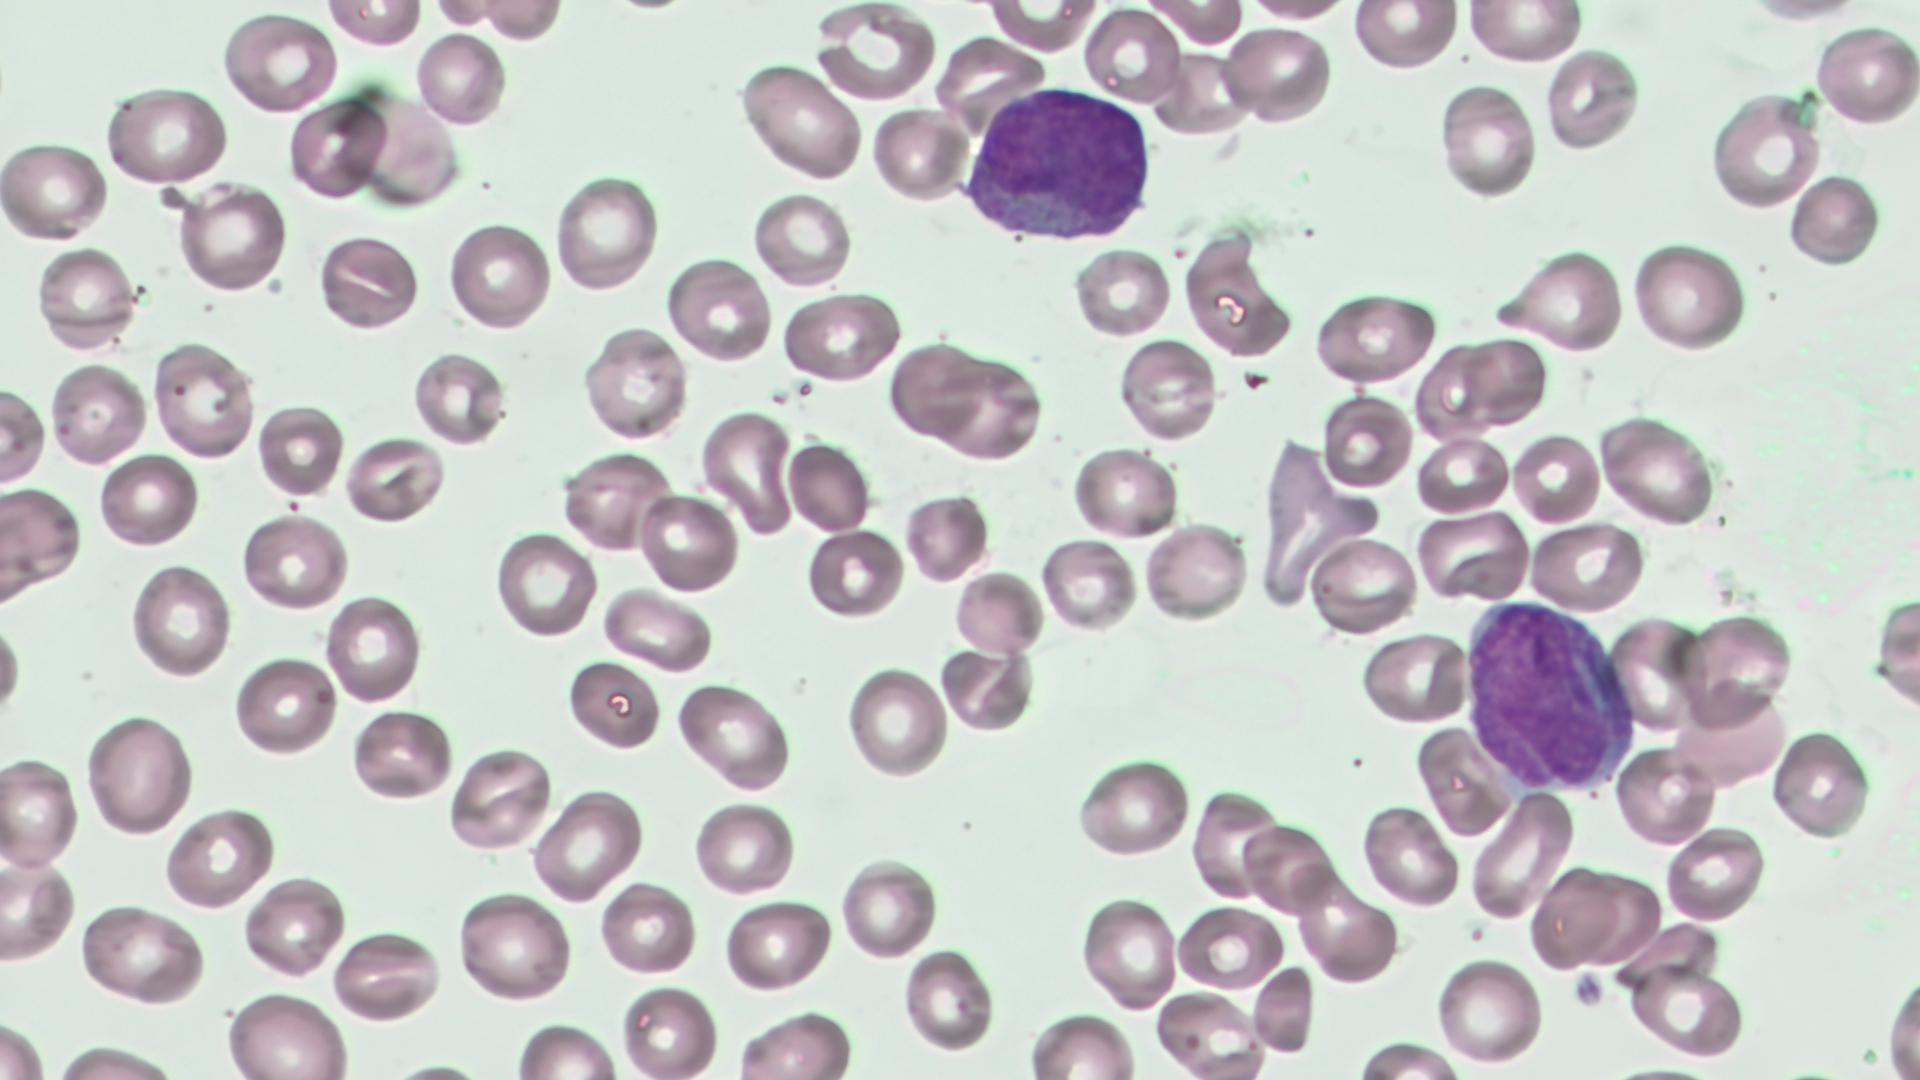Platelets: (1570, 969, 1606, 1008)
RBC: (736, 57, 865, 186), (1179, 226, 1294, 361), (1466, 785, 1576, 923), (76, 900, 209, 1010), (83, 710, 195, 840), (1629, 237, 1749, 357), (918, 349, 1044, 462), (455, 887, 574, 1006), (552, 167, 661, 296), (1596, 412, 1716, 528), (1682, 610, 1796, 730), (1707, 90, 1818, 213), (672, 679, 793, 791), (101, 81, 228, 187), (218, 7, 339, 118), (531, 789, 645, 902), (1434, 952, 1545, 1067), (1510, 246, 1624, 357), (580, 326, 687, 444), (1671, 683, 1791, 788), (151, 340, 256, 460), (699, 407, 795, 538), (163, 803, 277, 913), (1076, 752, 1191, 861), (127, 561, 232, 680), (814, 1, 934, 105), (1079, 891, 1180, 1014), (446, 217, 553, 333), (1437, 79, 1538, 201), (220, 986, 353, 1078), (493, 526, 599, 641), (558, 448, 674, 553), (1770, 724, 1872, 843), (176, 185, 286, 295), (664, 254, 773, 364), (843, 665, 946, 780), (0, 136, 109, 244), (286, 92, 391, 204), (1313, 290, 1435, 386), (239, 873, 348, 980), (240, 508, 350, 614), (1812, 20, 1917, 131), (447, 742, 552, 853), (1527, 518, 1647, 614), (1612, 741, 1718, 849), (324, 591, 423, 706), (1629, 961, 1746, 1058), (1417, 724, 1514, 840), (33, 244, 135, 354), (1360, 800, 1462, 910), (779, 290, 899, 383), (1662, 820, 1767, 926), (1220, 22, 1330, 123), (1306, 535, 1419, 633), (721, 896, 835, 993), (1298, 877, 1400, 985), (838, 854, 940, 962), (1142, 521, 1250, 623), (329, 928, 444, 1023), (48, 356, 148, 465), (638, 490, 741, 595), (235, 651, 336, 758), (1610, 615, 1700, 734), (1078, 4, 1184, 105), (1413, 507, 1528, 600), (1544, 46, 1642, 155), (1189, 786, 1282, 900), (96, 450, 202, 550), (315, 232, 421, 332), (1070, 442, 1178, 540), (1174, 900, 1287, 992), (1528, 864, 1622, 974), (747, 189, 851, 288), (348, 706, 453, 804), (1360, 632, 1469, 726), (692, 798, 796, 896), (899, 946, 994, 1053), (1785, 168, 1887, 267), (1070, 244, 1174, 341), (1120, 337, 1216, 442), (601, 585, 714, 674), (597, 878, 698, 977), (1038, 537, 1137, 637), (888, 340, 986, 441), (411, 26, 506, 130), (618, 980, 720, 1076), (868, 106, 970, 202), (0, 752, 81, 869), (343, 434, 448, 524), (412, 349, 508, 447), (1508, 429, 1602, 528), (562, 659, 662, 752), (802, 527, 904, 618), (938, 642, 1037, 734), (1322, 393, 1412, 492), (1, 483, 81, 594), (253, 403, 346, 497), (731, 1007, 854, 1078), (785, 439, 874, 536), (0, 854, 77, 964), (1461, 1, 1587, 68), (1348, 0, 1462, 73), (953, 566, 1042, 659), (1413, 434, 1512, 516), (902, 490, 988, 584), (1461, 335, 1548, 426), (1024, 1010, 1140, 1078), (510, 1017, 622, 1078), (1251, 962, 1322, 1054), (980, 0, 1100, 54), (1875, 590, 1920, 716), (0, 379, 49, 489), (1139, 0, 1249, 48), (319, 1, 425, 49), (1355, 1036, 1460, 1079)
WBC: (1462, 598, 1642, 794), (960, 83, 1155, 249)
